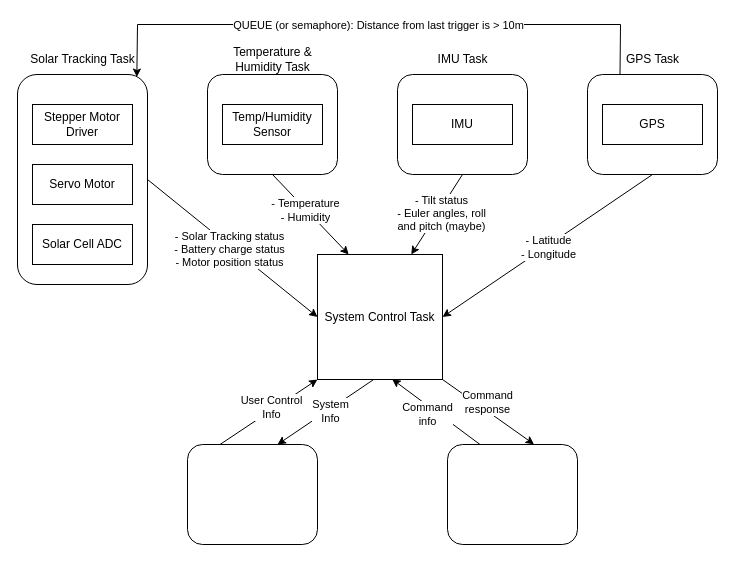
The diagram is 735 pixels wide and 562 high, and some of its shapes have lost their labels. Each missing label, with the box of its shape:
CLI Task: (446, 444, 578, 544)
WiFi Task: (186, 444, 318, 544)
